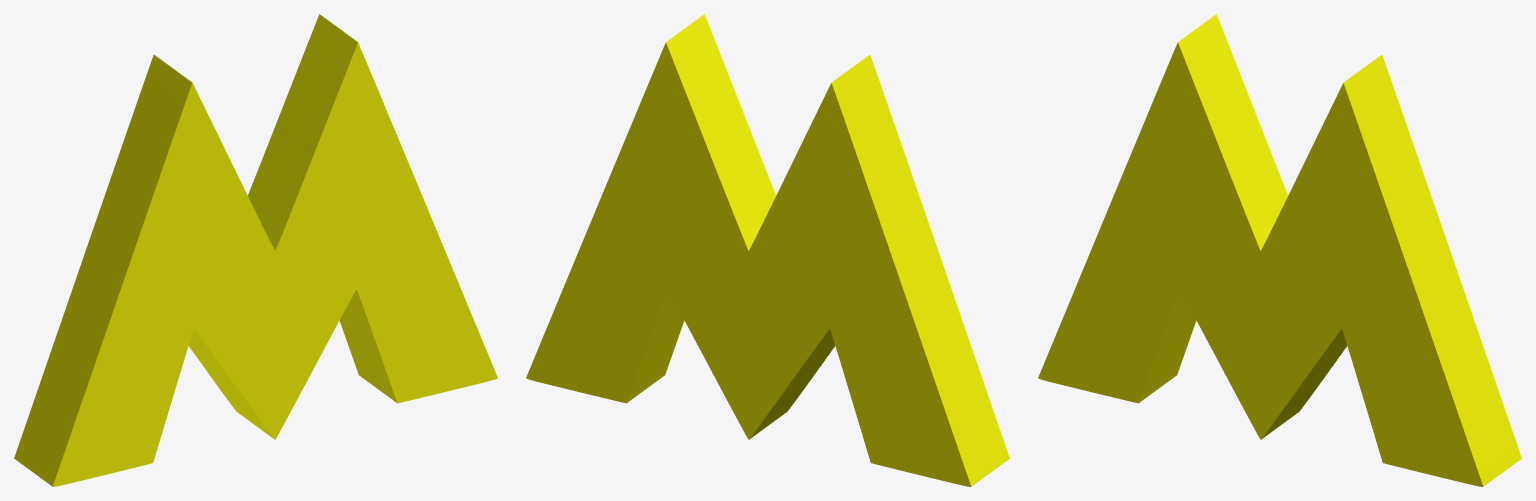
The model's file is PacMan_M.fbx.
The picture shows the model from 3 angles, left to right: view 1: azimuth 30°, elevation 25°; view 2: azimuth 150°, elevation 25°; view 3: azimuth 330°, elevation 25°; orthographic projection.
Parts seen in each view (by area): view 1: PacMan_M; view 2: PacMan_M; view 3: PacMan_M.
Boxes of the visible parts, left/top/right/bottom form: PacMan_M: left=14, top=14, right=497, bottom=486; PacMan_M: left=526, top=14, right=1009, bottom=486; PacMan_M: left=1038, top=14, right=1521, bottom=486.
Bounding box in the file's own units: 133 × 108 × 20.
